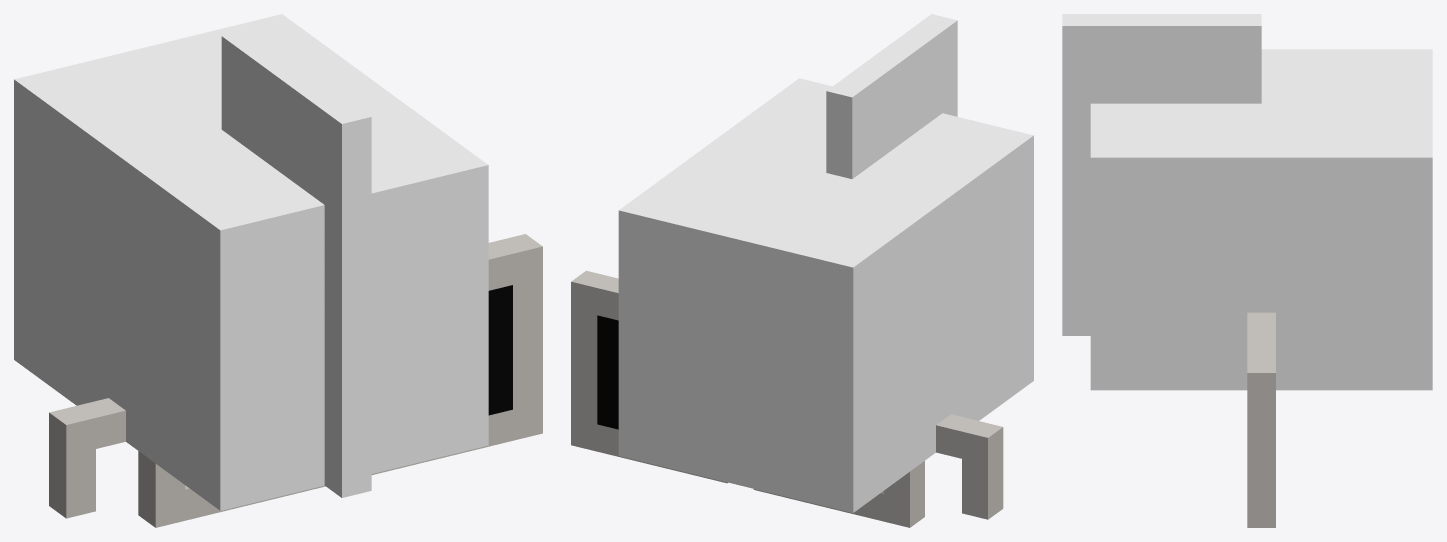
Rendered from cloud.glb.
3 renders of one model, left to right at view 1: azimuth 30°, elevation 25°; view 2: azimuth 150°, elevation 25°; view 3: azimuth 270°, elevation 25°, orthographic. The views are drawn at different scales.
Parts seen in each view (by area): view 1: square, q, monture, glass (1); view 2: square, monture, q, glass (1); view 3: square, q, monture.
Boxes of the visible parts, x1=… form: square: x1=14, y1=14, x2=488, y2=510; q: x1=221, y1=29, x2=371, y2=497; monture: x1=49, y1=234, x2=542, y2=527; glass (1): x1=185, y1=285, x2=512, y2=489; square: x1=618, y1=78, x2=1033, y2=512; monture: x1=571, y1=270, x2=1003, y2=527; q: x1=826, y1=14, x2=957, y2=179; glass (1): x1=597, y1=315, x2=883, y2=494; square: x1=1090, y1=49, x2=1432, y2=390; q: x1=1062, y1=14, x2=1261, y2=335; monture: x1=1247, y1=312, x2=1275, y2=527.
Size of the model in its own units: 16 by 15 by 13.
5 materials, 5 textured.
